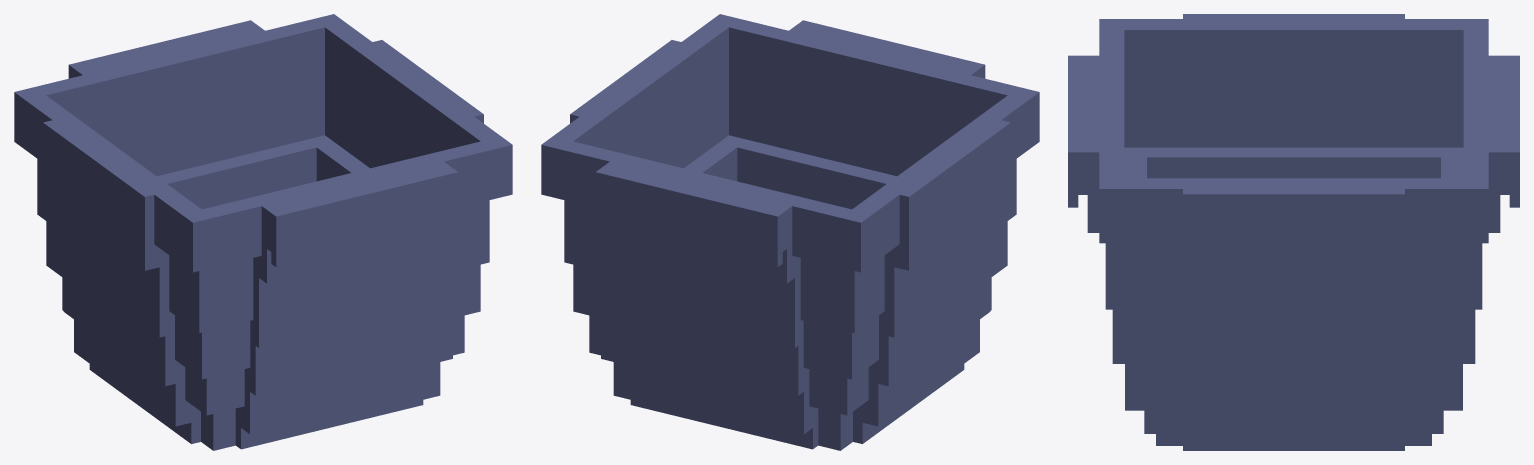
File: Small Basket.fbx
The picture shows the model from 3 angles, left to right: view 1: azimuth 30°, elevation 25°; view 2: azimuth 150°, elevation 25°; view 3: azimuth 270°, elevation 25°; orthographic projection. The views are drawn at different scales.
Parts seen in each view (by area): view 1: Small_basket; view 2: Small_basket; view 3: Small_basket.
Part boxes in pixels (x1,y1,x2,y2): Small_basket: (14,14,512,450); Small_basket: (541,14,1039,450); Small_basket: (1068,14,1519,450).
Size of the model in its own units: 13.34 by 9.72 by 14.14.
Materials: 1 (1 with a texture image).
